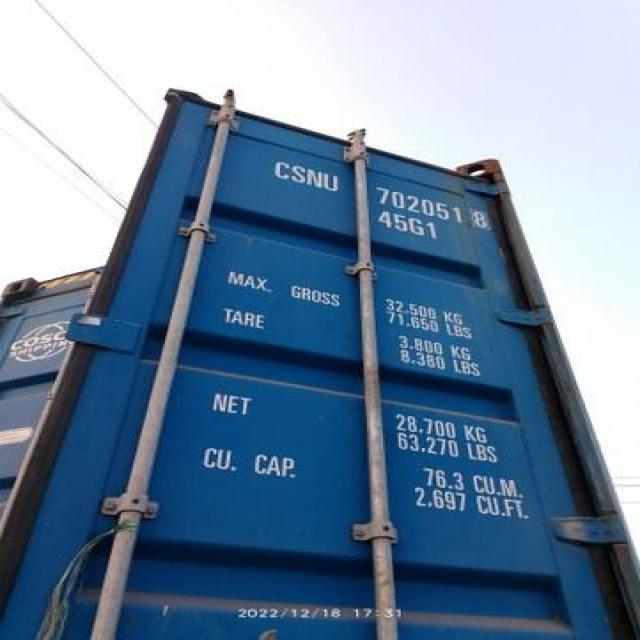container_number_h: (247, 139, 520, 246)
